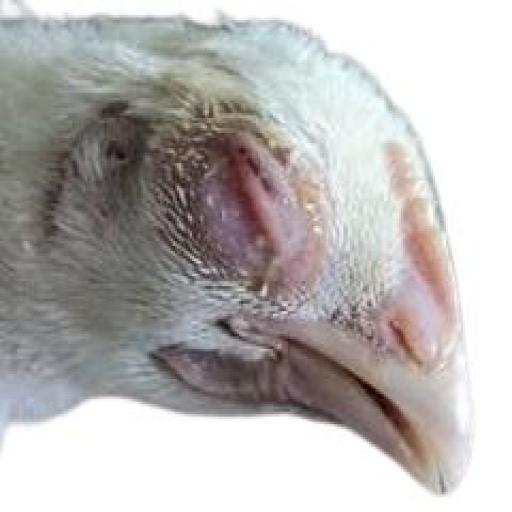disease: (185, 72, 337, 286)
